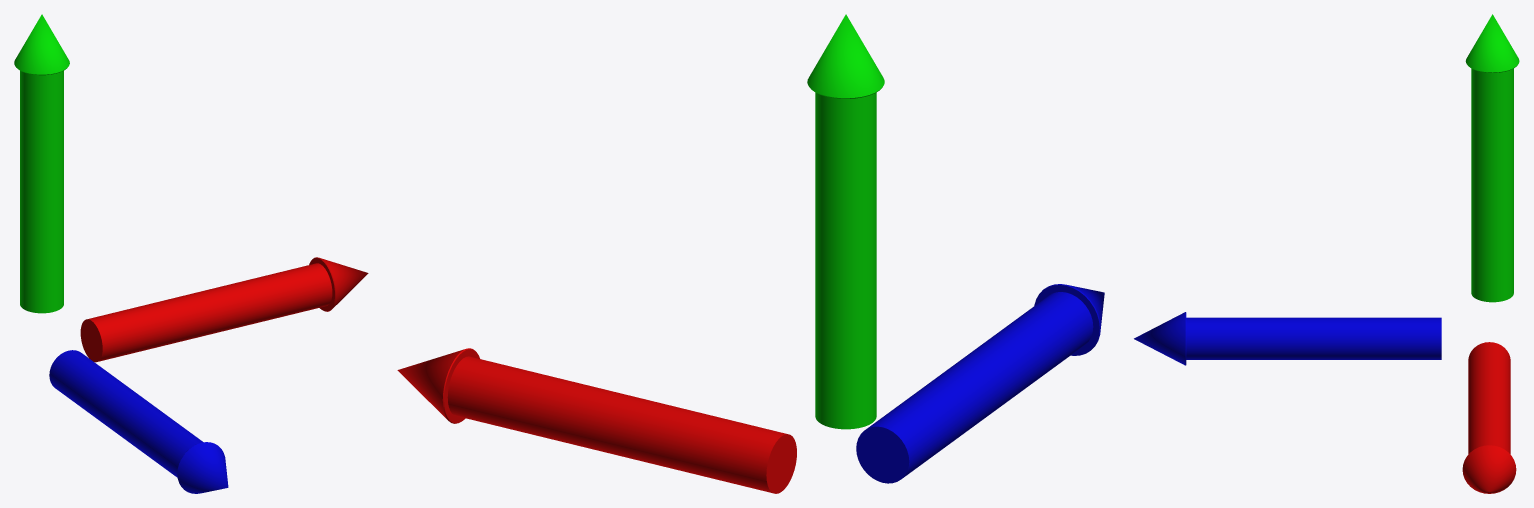
File: MoveHandle.glb
3 renders of one model, left to right at view 1: azimuth 30°, elevation 25°; view 2: azimuth 150°, elevation 25°; view 3: azimuth 270°, elevation 25°, orthographic. The views are drawn at different scales.
Visible parts, largest first — view 1: MoveHandle; view 2: MoveHandle; view 3: MoveHandle.
Boxes of the visible parts, left/top/right/bottom form: MoveHandle: left=14, top=14, right=368, bottom=493; MoveHandle: left=397, top=14, right=1104, bottom=493; MoveHandle: left=1134, top=14, right=1519, bottom=493.
Size of the model in its own units: 1.57 by 1.56 by 1.56.
